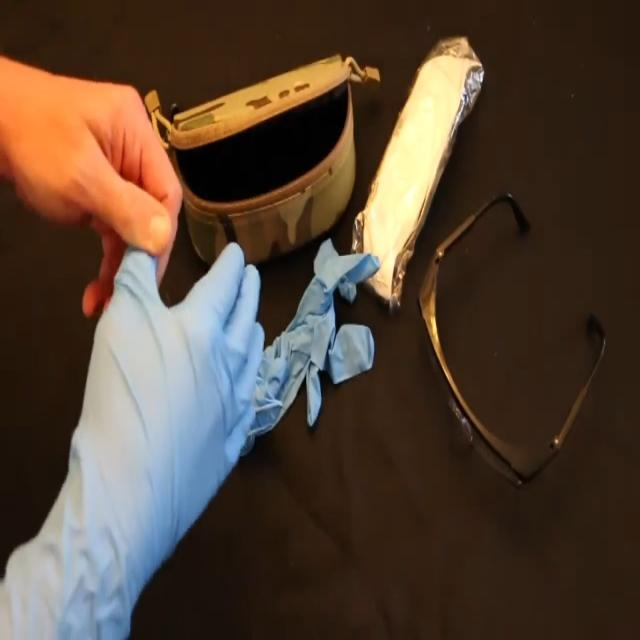Gloves: (1, 236, 277, 640)
